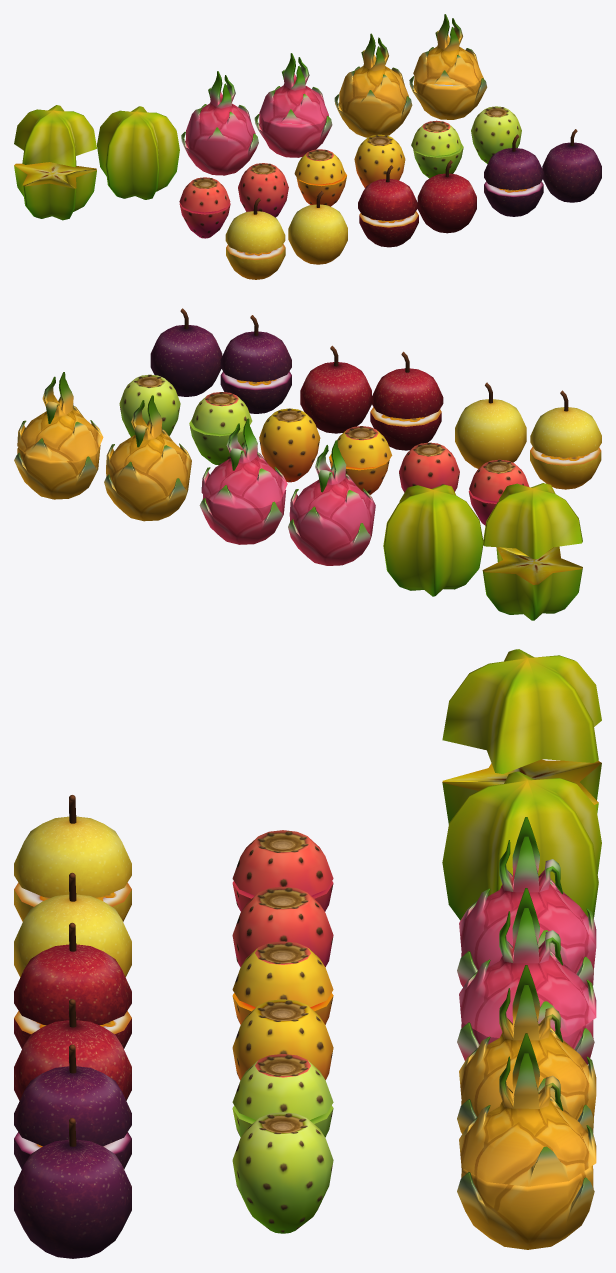
File: fruit2.fbx
3 views of the same model, one above another, from view 1: azimuth 30°, elevation 25°; view 2: azimuth 150°, elevation 25°; view 3: azimuth 270°, elevation 25° (orthographic). The views are drawn at different scales.
Visible parts, largest first — view 1: Starfruit, Dragonfruit_Yellow.001, Dragonfruit_Yellow, Starfruit.002, Starfruit.001, PassionFruit_Yellow, PassionFruit_Purple, PassionFruit_Red, Dragonfruit.002, Dragonfruit.001, Dragonfruit_Yellow_Half, PassionFruit_Yellow.001 (+15 smaller); view 2: Starfruit, Dragonfruit_Yellow.001, Dragonfruit_Yellow, Starfruit.001, Starfruit.002, Dragonfruit.001, Dragonfruit.002, PassionFruit_Red, PassionFruit_Purple, PassionFruit_Yellow, PricklyPear_Orange, PassionFruit_Yellow.002 (+15 smaller); view 3: Starfruit, Starfruit.002, Dragonfruit.002, PassionFruit_Purple, Dragonfruit_Yellow.001, Dragonfruit_Yellow, PricklyPear_Green, Dragonfruit.001, PassionFruit_Yellow.001, Dragonfruit_Yellow_Half, PassionFruit_Yellow.002, PassionFruit_Yellow.003 (+12 smaller).
Boxes of the visible parts, x1,y1,x2,y2 form: Starfruit: (97,106,179,199); Dragonfruit_Yellow.001: (181,71,258,175); Dragonfruit_Yellow: (334,33,412,137); Starfruit.002: (14,105,96,167); Starfruit.001: (14,162,96,220); PassionFruit_Yellow: (288,191,347,264); PassionFruit_Purple: (542,129,601,202); PassionFruit_Red: (417,160,476,233); Dragonfruit.002: (413,14,482,85); Dragonfruit.001: (259,53,328,124); Dragonfruit_Yellow_Half: (409,76,487,119); PassionFruit_Yellow.001: (225,198,285,253); Starfruit: (383,484,483,596); Dragonfruit_Yellow.001: (288,440,375,565); Dragonfruit_Yellow: (104,395,191,521); Starfruit.001: (482,546,582,620); Starfruit.002: (482,483,582,558); Dragonfruit.001: (201,418,287,507); Dragonfruit.002: (17,372,103,461); PassionFruit_Red: (300,345,371,433); PassionFruit_Purple: (150,308,222,396); PassionFruit_Yellow: (455,382,526,468); PricklyPear_Orange: (259,408,320,482); PassionFruit_Yellow.002: (371,351,443,418); Starfruit: (442,771,601,920); Starfruit.002: (442,649,601,773); Dragonfruit.002: (459,1033,596,1186); PassionFruit_Purple: (14,1118,131,1258); Dragonfruit_Yellow.001: (457,817,596,988); Dragonfruit_Yellow: (457,965,596,1133); PricklyPear_Green: (232,1112,333,1233); Dragonfruit.001: (459,888,596,1037); PassionFruit_Yellow.001: (14,795,131,897); Dragonfruit_Yellow_Half: (457,1165,594,1249); PassionFruit_Yellow.002: (14,922,131,1025); PassionFruit_Yellow.003: (14,1044,131,1146).
Bounding box in the file's own units: 2781 × 599 × 1537.
Materials: 5 (5 with a texture image).
